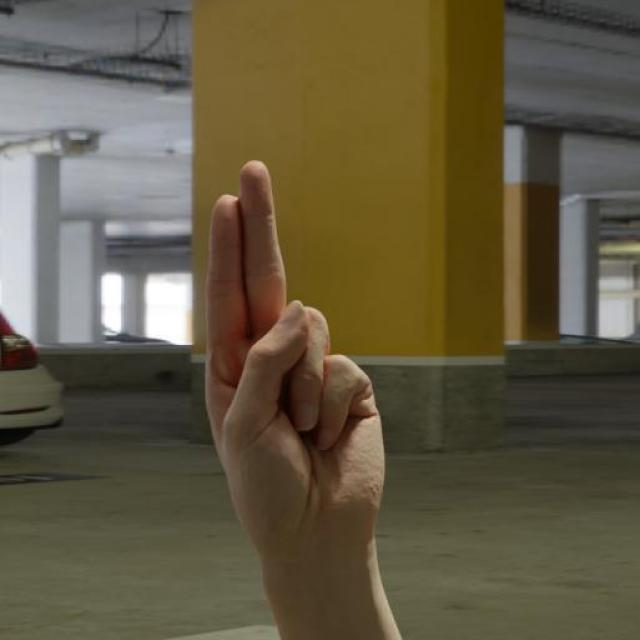U: (198, 157, 390, 577)
